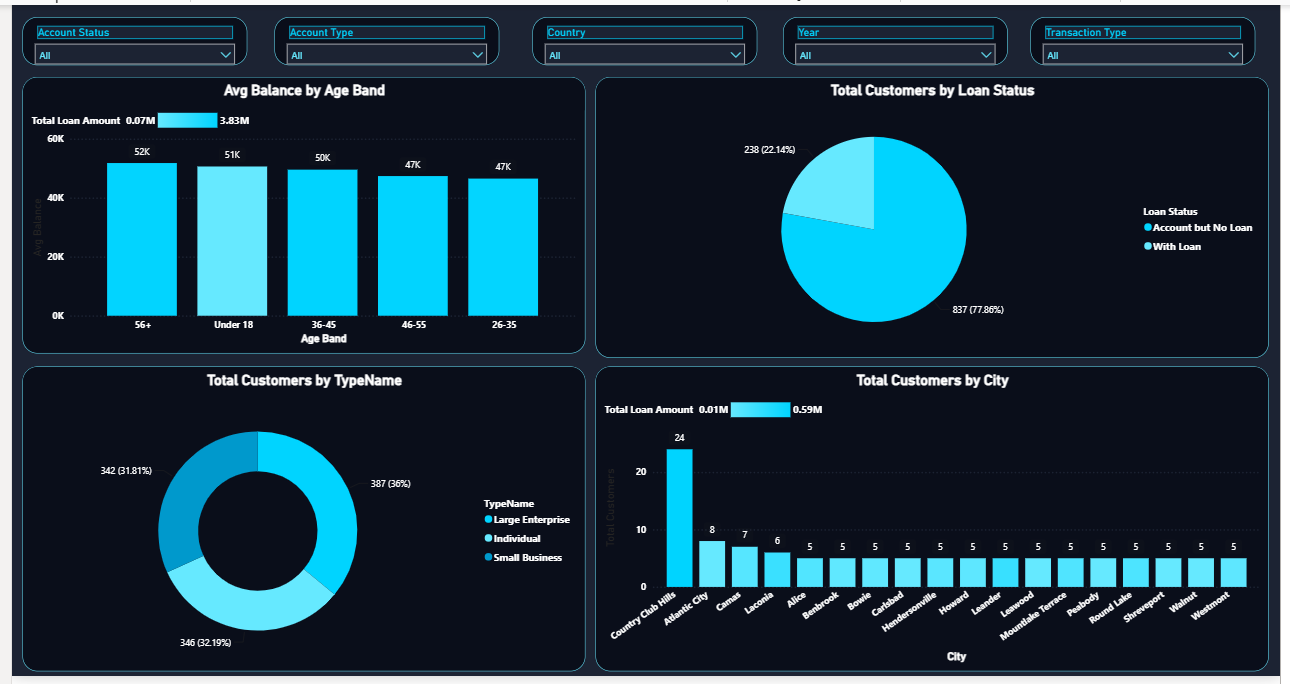

Layout of this report page (visuals, bound fields, positions):
{"tool":"powerbi","page":{"name":"Customer Insights","canvas":[1700,900],"ordinal":1},"visuals":[{"type":"donutChart","fields":{"Category":["enterpricebankinganalyticsdb customer_types.TypeName"],"Y":["enterpricebankinganalyticsdb customers.Total Customers"]},"box":[14.2,483.7,755,408.9],"z":0},{"type":"columnChart","fields":{"Category":["enterpricebankinganalyticsdb addresses.City"],"Y":["enterpricebankinganalyticsdb customers.Total Customers"]},"box":[783.3,483.7,902.7,408.9],"z":1000},{"type":"columnChart","fields":{"Category":["enterpricebankinganalyticsdb customers.Age Band"],"Y":["enterpricebankinganalyticsdb accounts.Avg Balance"]},"box":[14.2,97.2,755,370.4],"z":2000},{"type":"pieChart","fields":{"Category":["enterpricebankinganalyticsdb customers.Loan Status"],"Y":["enterpricebankinganalyticsdb customers.Total Customers"]},"box":[783.3,97.2,902.7,376.5],"z":3000},{"type":"slicer","fields":{"Values":["enterpricebankinganalyticsdb account_statuses.StatusName"]},"box":[14.2,16.2,301.6,64.8],"z":4000},{"type":"slicer","fields":{"Values":["enterpricebankinganalyticsdb account_types.TypeName"]},"box":[352.2,16.2,301.6,64.8],"z":5000},{"type":"slicer","fields":{"Values":["enterpricebankinganalyticsdb addresses.Country"]},"box":[698.3,16.2,301.6,64.8],"z":6000},{"type":"slicer","fields":{"Values":["enterpricebankinganalyticsdb transactions.TransactionDate.Variation.Date Hierarchy.Year"]},"box":[1034.3,16.2,301.6,64.8],"z":7000},{"type":"slicer","fields":{"Values":["enterpricebankinganalyticsdb transaction_types.TypeName"]},"box":[1366.2,16.2,301.6,64.8],"z":8000}]}

Visuals, with their boxes in screenshot pixels (x1, y1, x2, y2), scaled from the page's 1700x900 canvas onto the 1290x684 screenshot:
donutChart - enterpricebankinganalyticsdb customer_types.TypeName x enterpricebankinganalyticsdb customers.Total Customers: [left=11, top=368, right=584, bottom=678]
columnChart - enterpricebankinganalyticsdb addresses.City x enterpricebankinganalyticsdb customers.Total Customers: [left=594, top=368, right=1279, bottom=678]
columnChart - enterpricebankinganalyticsdb customers.Age Band x enterpricebankinganalyticsdb accounts.Avg Balance: [left=11, top=74, right=584, bottom=355]
pieChart - enterpricebankinganalyticsdb customers.Loan Status x enterpricebankinganalyticsdb customers.Total Customers: [left=594, top=74, right=1279, bottom=360]
slicer - enterpricebankinganalyticsdb account_statuses.StatusName: [left=11, top=12, right=240, bottom=62]
slicer - enterpricebankinganalyticsdb account_types.TypeName: [left=267, top=12, right=496, bottom=62]
slicer - enterpricebankinganalyticsdb addresses.Country: [left=530, top=12, right=759, bottom=62]
slicer - enterpricebankinganalyticsdb transactions.TransactionDate.Variation.Date Hierarchy.Year: [left=785, top=12, right=1014, bottom=62]
slicer - enterpricebankinganalyticsdb transaction_types.TypeName: [left=1037, top=12, right=1266, bottom=62]
